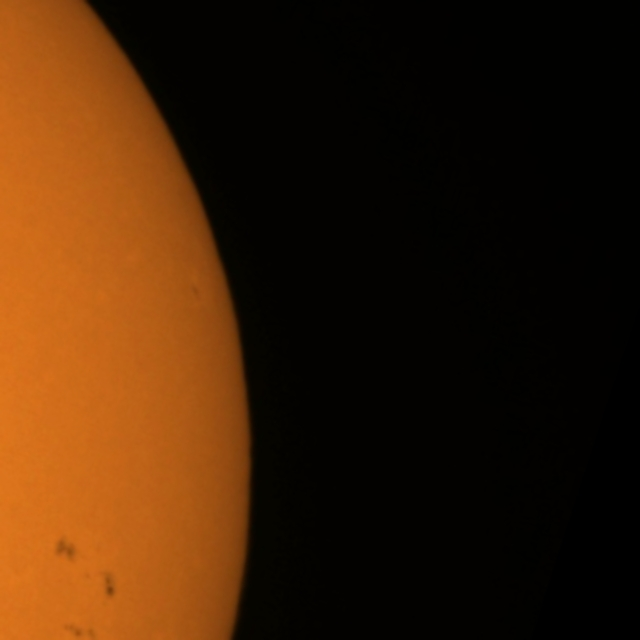sunspot: (81, 566, 118, 600), (52, 534, 80, 564), (59, 622, 98, 640), (101, 570, 118, 602)
